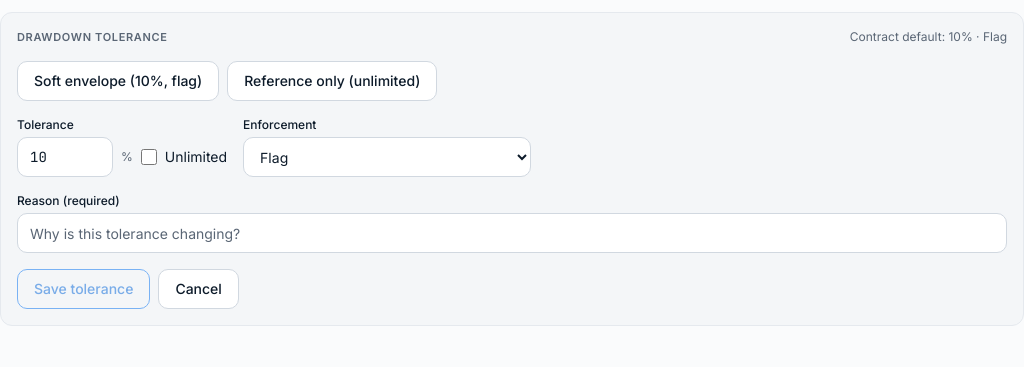
Scenario: PolicyEditor — the tolerance input is text, so the default locale can express a decimal › a cleared tolerance refuses by name and points at the Unlimited alternative
Step 1. Clear the field labelled "Tolerance" → x=65, y=157, box [17, 137, 113, 177]
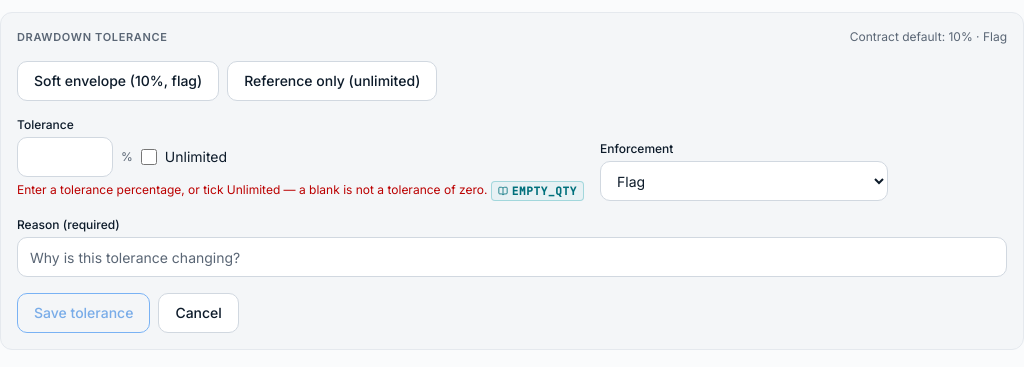
Expected: the message with test id "policy-pct-refusal" shows "tick Unlimited", [17, 182, 487, 197]
